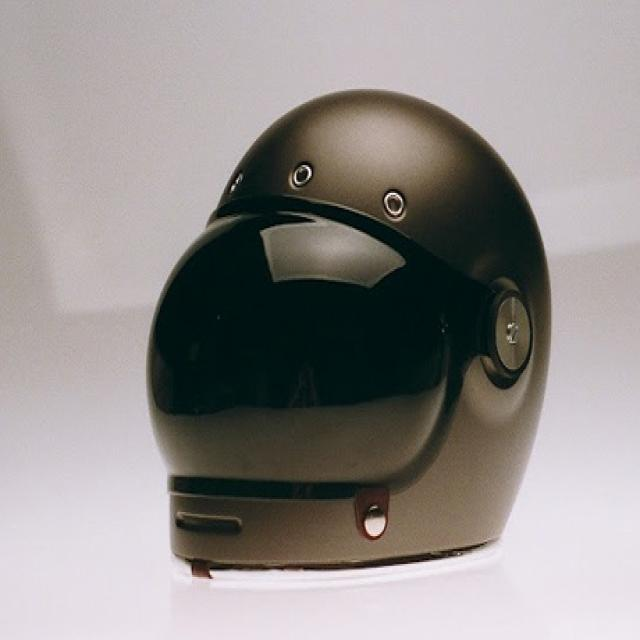helmet: (132, 73, 560, 591)
